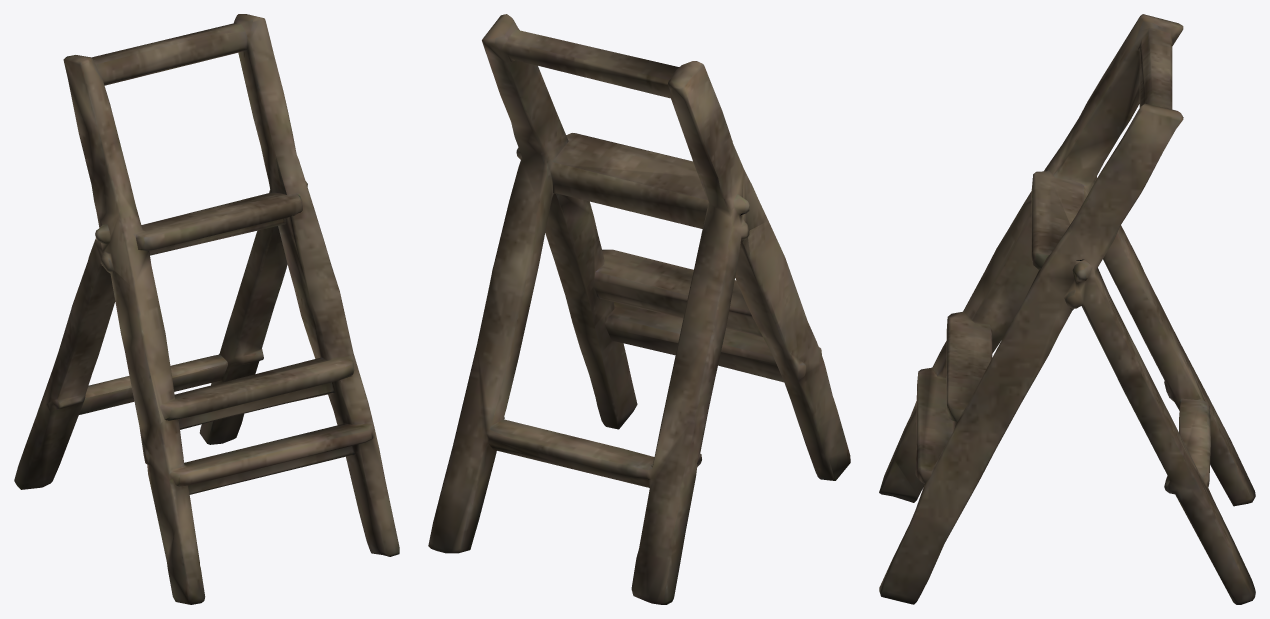
The model's file is old-wood-ladder-v001.glb.
The picture shows the model from 3 angles, left to right: view 1: azimuth 30°, elevation 25°; view 2: azimuth 150°, elevation 25°; view 3: azimuth 270°, elevation 25°; orthographic projection. The views are drawn at different scales.
Parts seen in each view (by area): view 1: old-wood-ladder; view 2: old-wood-ladder; view 3: old-wood-ladder.
Boxes of the visible parts, <box> form: old-wood-ladder: <box>14,14,399,604</box>; old-wood-ladder: <box>428,14,850,604</box>; old-wood-ladder: <box>879,14,1255,604</box>.
Bounding box in the file's own units: 1.27 × 2.55 × 1.77.
Materials: 1 (1 with a texture image).
